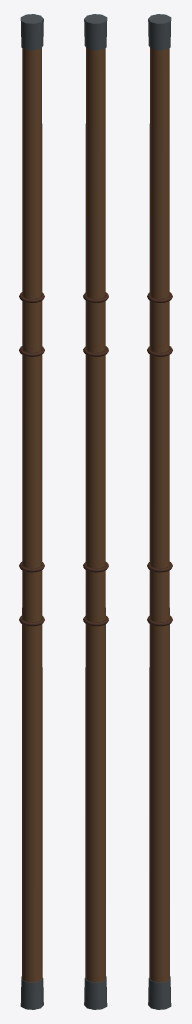
File: quarterstaff.glb
3 renders of one model, left to right at view 1: azimuth 90°, elevation 25°; view 2: azimuth 150°, elevation 25°; view 3: azimuth 270°, elevation 25°, orthographic.
Parts seen in each view (by area): view 1: quarterstaff-shaft, quarterstaff-cap-top, quarterstaff-cap-bottom, quarterstaff-grip-wrap (×4); view 2: quarterstaff-shaft, quarterstaff-cap-top, quarterstaff-cap-bottom, quarterstaff-grip-wrap (×4); view 3: quarterstaff-shaft, quarterstaff-cap-top, quarterstaff-cap-bottom, quarterstaff-grip-wrap (×4).
Part boxes in pixels (<box>): quarterstaff-shaft: <box>22,48,42,982</box>; quarterstaff-cap-top: <box>20,14,43,50</box>; quarterstaff-cap-bottom: <box>20,976,43,1009</box>; quarterstaff-grip-wrap (×4): <box>19,292,44,626</box>; quarterstaff-shaft: <box>85,48,105,982</box>; quarterstaff-cap-top: <box>84,14,107,50</box>; quarterstaff-cap-bottom: <box>84,976,107,1009</box>; quarterstaff-grip-wrap (×4): <box>83,292,108,626</box>; quarterstaff-shaft: <box>149,48,169,982</box>; quarterstaff-cap-top: <box>148,14,171,50</box>; quarterstaff-cap-bottom: <box>148,976,171,1009</box>; quarterstaff-grip-wrap (×4): <box>147,292,172,626</box>.
Size of the model in its own units: 0.0342 by 1.42 by 0.0342.
